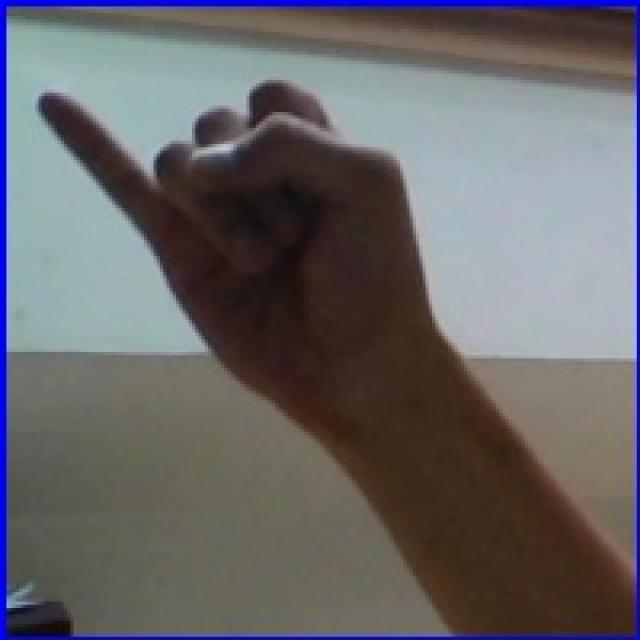J: (20, 33, 528, 456)
